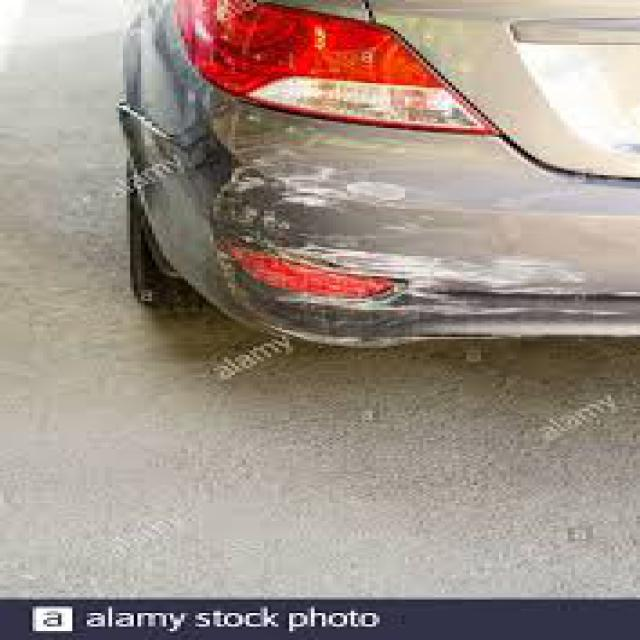rear-bumper-dent: (98, 103, 637, 402)
